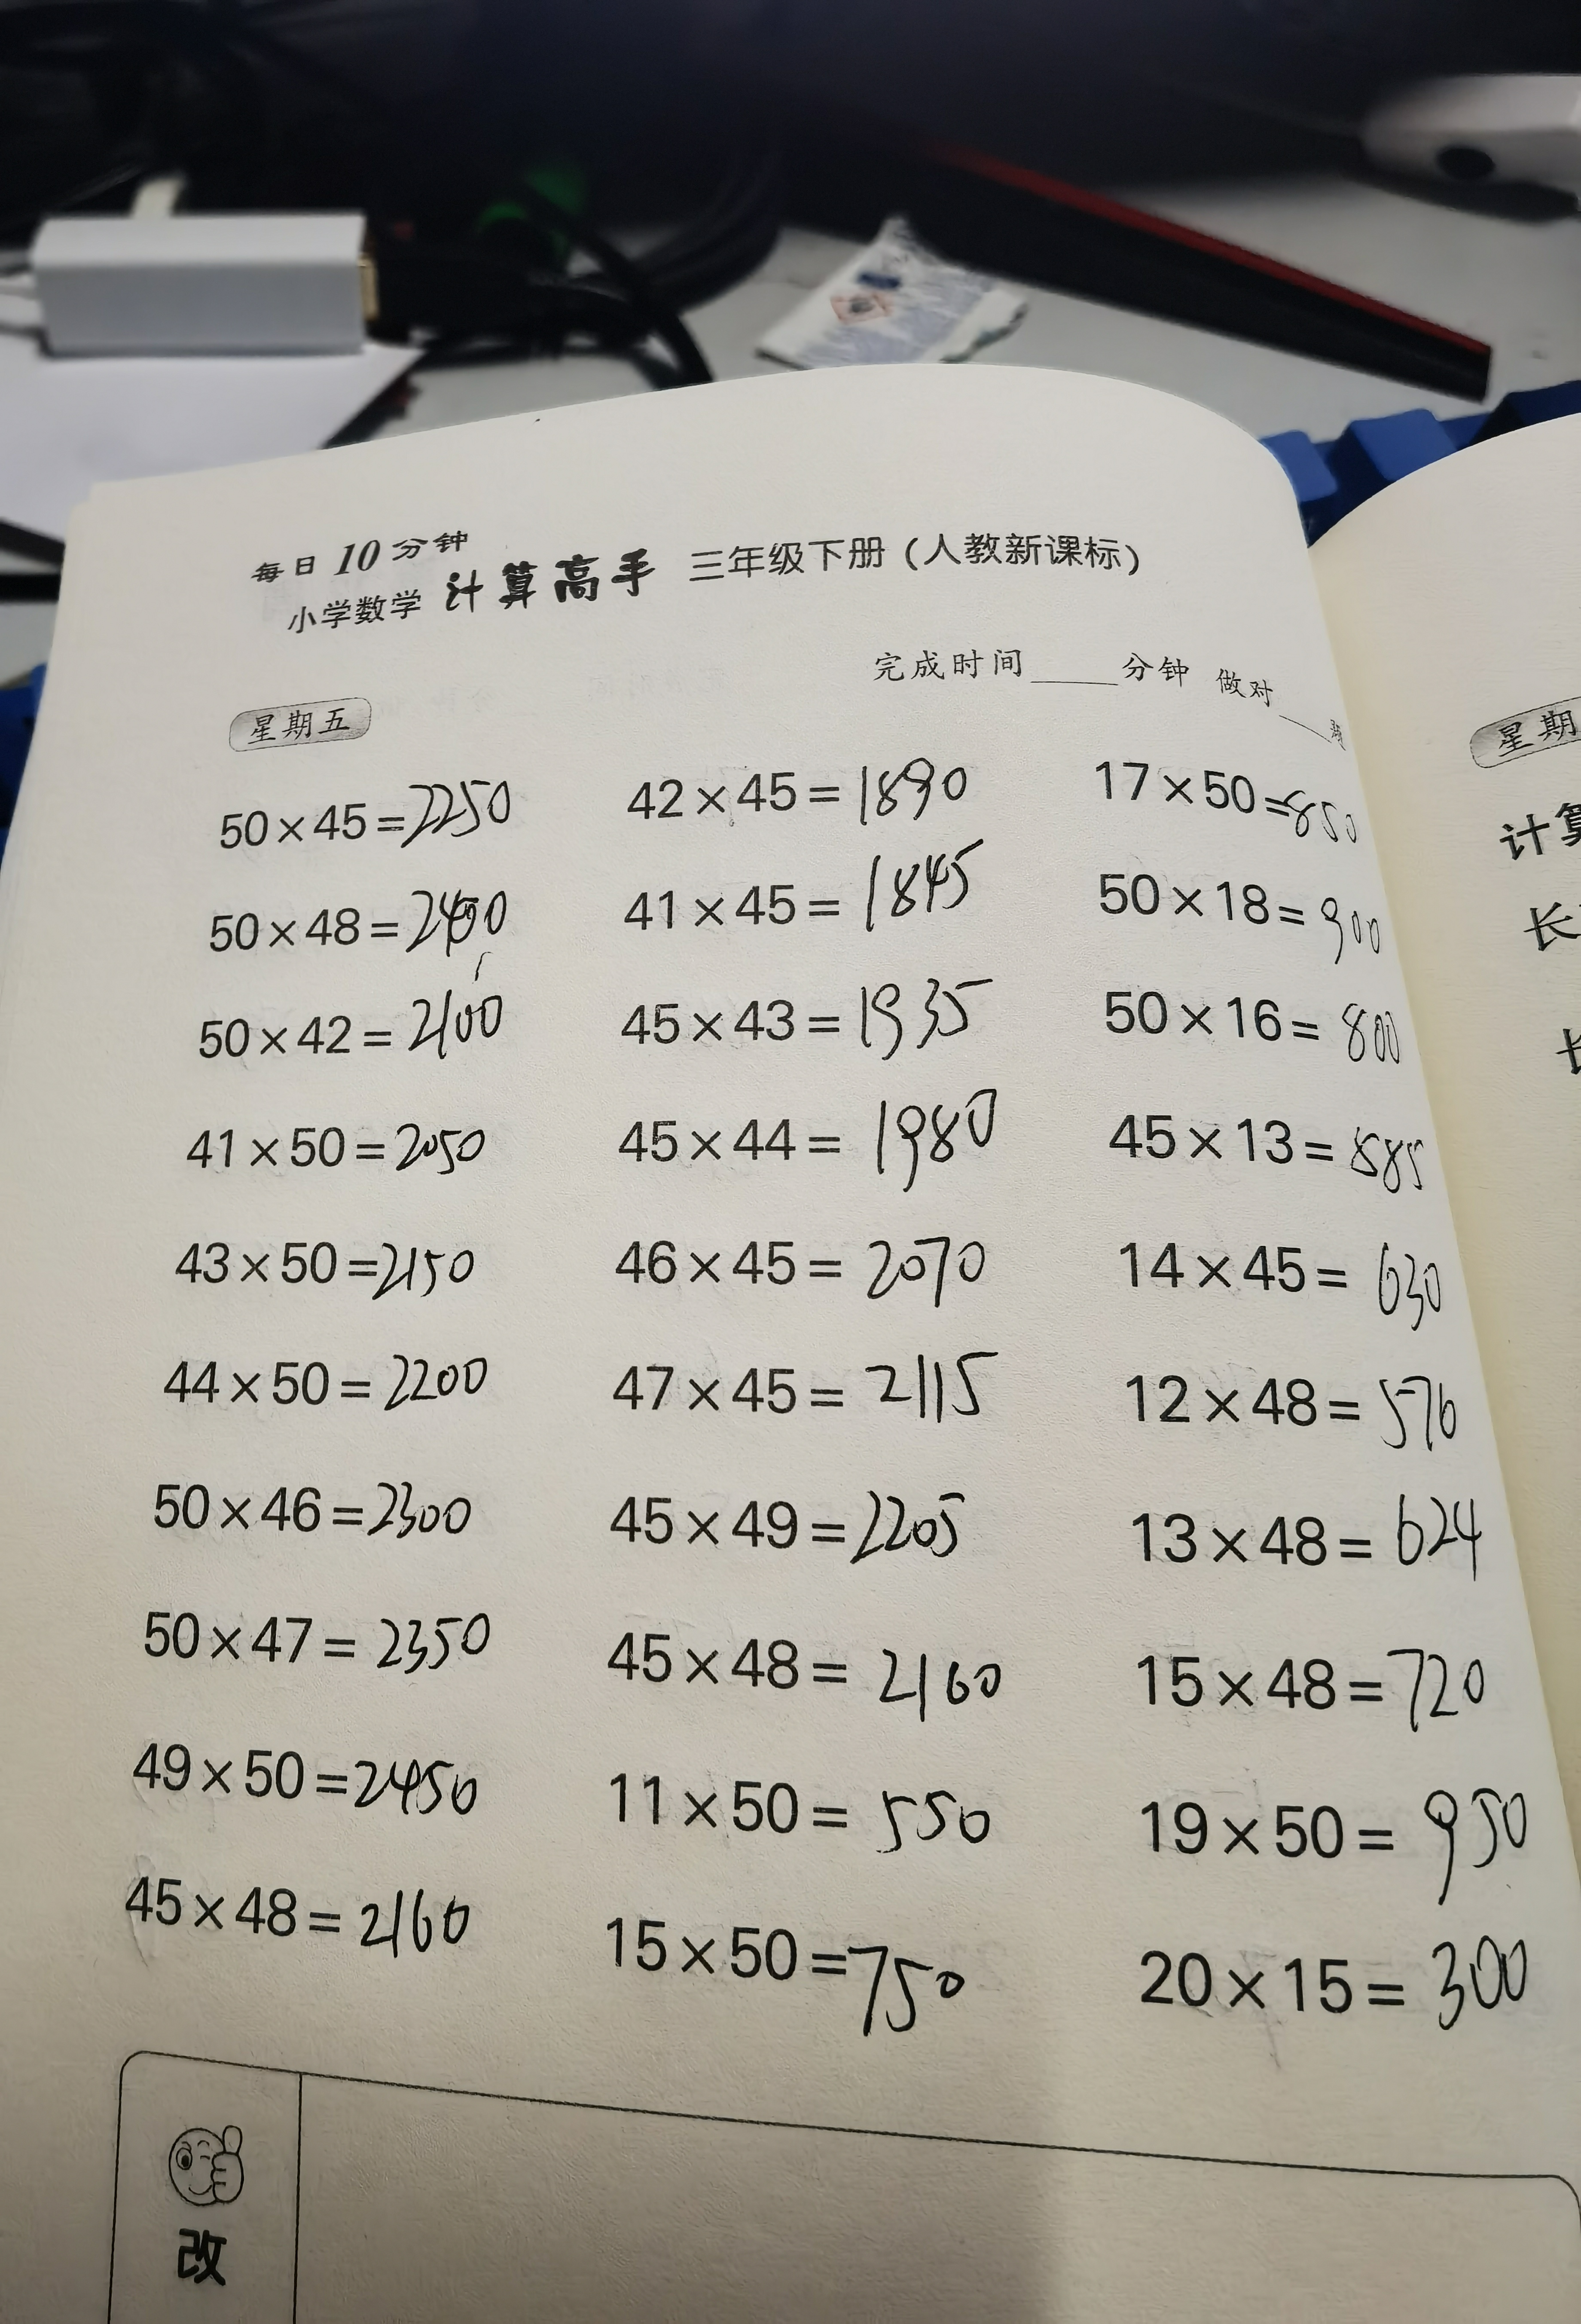equation: (586, 1911, 1002, 2080), (1122, 1779, 1555, 1922), (593, 1463, 1004, 1608), (591, 1735, 1029, 1870), (1133, 1932, 1581, 2063), (1119, 1477, 1526, 1608), (596, 1325, 997, 1456), (600, 1203, 1022, 1325), (602, 1082, 1018, 1202), (111, 1856, 491, 1987), (1094, 1223, 1482, 1348), (122, 1706, 513, 1828), (1112, 1346, 1480, 1475), (180, 745, 543, 872), (1076, 979, 1422, 1110), (1120, 1631, 1535, 1738), (1096, 1087, 1433, 1218), (1071, 851, 1429, 972), (618, 838, 993, 953), (168, 1196, 528, 1315), (614, 962, 1004, 1069), (614, 1620, 1006, 1726), (154, 1461, 513, 1576), (180, 974, 538, 1089), (1085, 731, 1390, 863), (138, 1583, 522, 1687), (148, 1331, 528, 1431), (161, 1099, 536, 1195), (176, 881, 549, 976), (616, 755, 983, 843)
